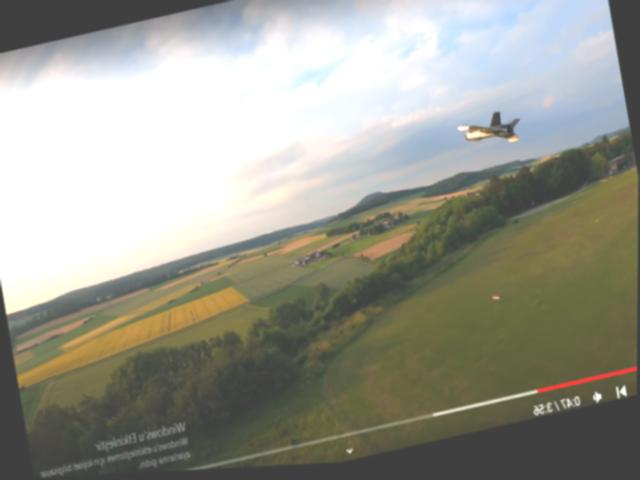plane: (455, 109, 525, 161)
